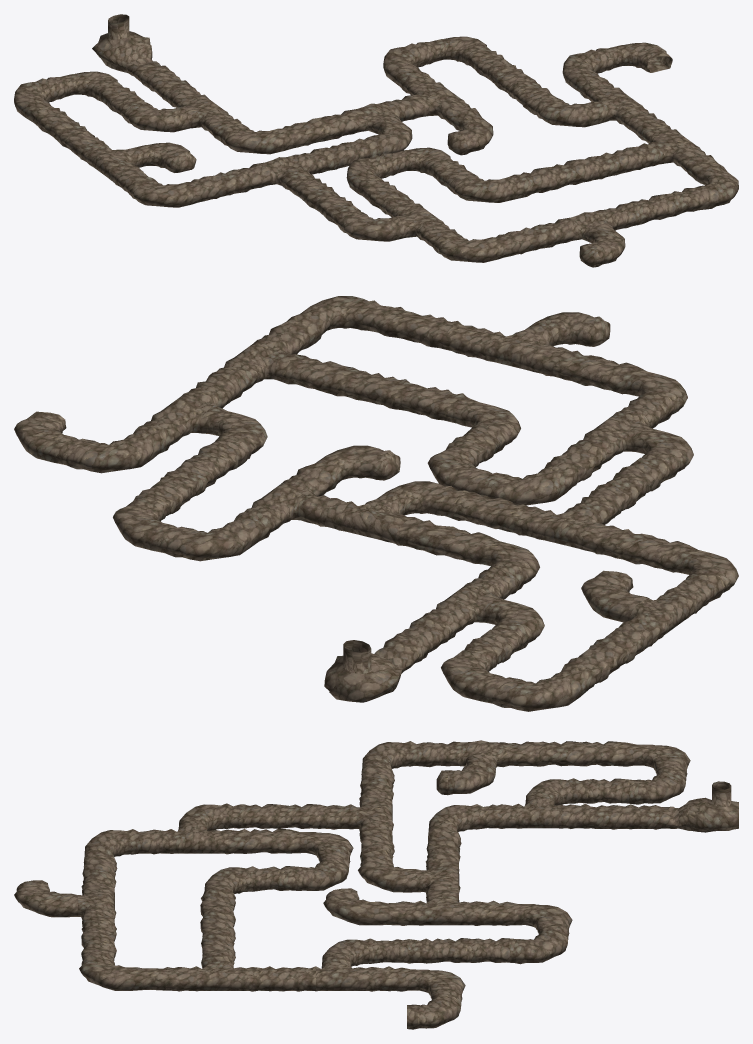
Rendered from Cueva prueba.fbx.
3 views of the same model, one above another, from view 1: azimuth 30°, elevation 25°; view 2: azimuth 150°, elevation 25°; view 3: azimuth 270°, elevation 25° (orthographic). The views are drawn at different scales.
Visible parts, largest first — view 1: Cube; view 2: Cube; view 3: Cube.
Part boxes in pixels (x1,y1,x2,y2): Cube: (14,14,738,267); Cube: (14,296,738,711); Cube: (14,740,738,1029).
Size of the model in its own units: 14085 by 957 by 15469.
